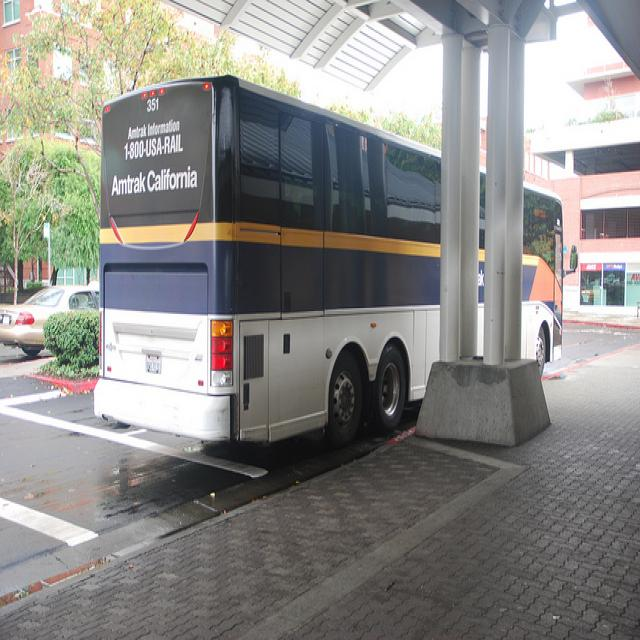Vehicle: (93, 71, 562, 448), (0, 285, 100, 357)
